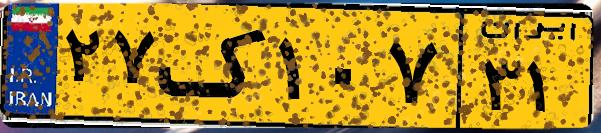0: (330, 28, 385, 110)
1: (270, 28, 330, 110), (525, 38, 570, 115)
2: (57, 26, 110, 100)
3: (475, 38, 525, 113)
7: (385, 28, 445, 110), (110, 28, 158, 98)
ک: (158, 12, 270, 120)
